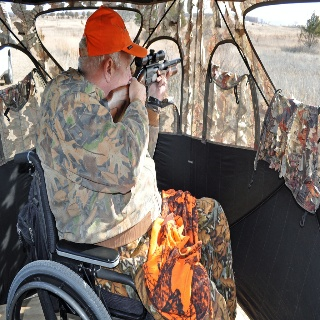rifle: (101, 49, 181, 120)
